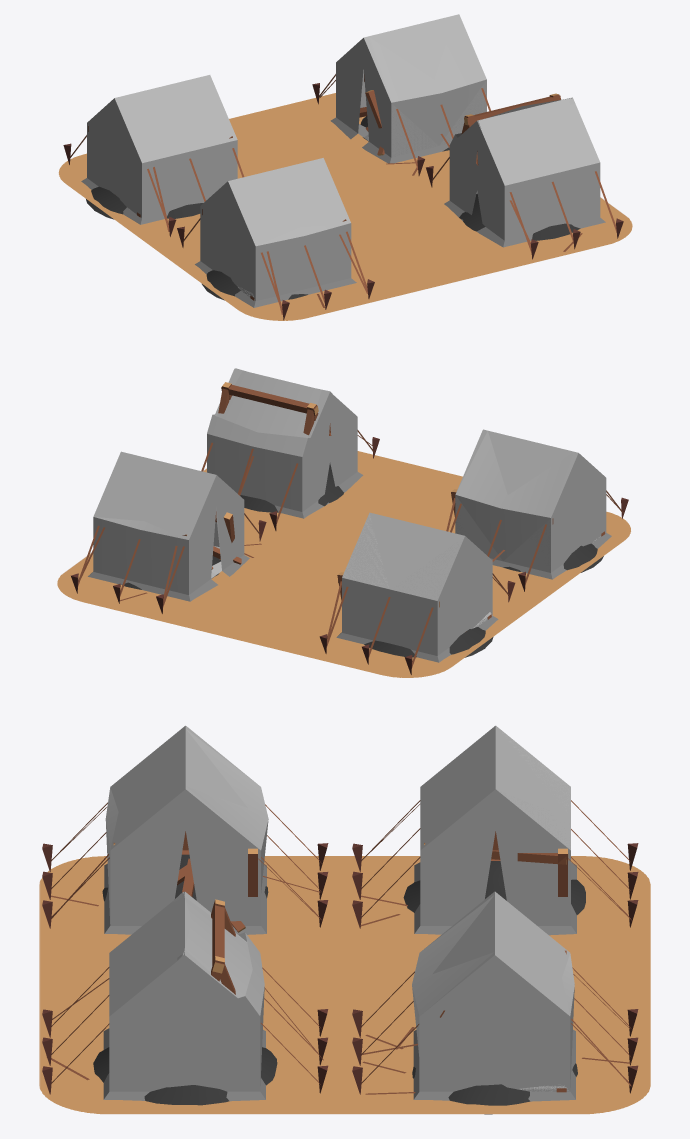
Rendered from Tents.fbx.
3 renders of one model, top to bottom at view 1: azimuth 30°, elevation 25°; view 2: azimuth 150°, elevation 25°; view 3: azimuth 270°, elevation 25°, orthographic. The views are drawn at different scales.
Parts seen in each view (by area): view 1: First_Floor, Ground, Destruction_phase_1, Destruction_phase_2; view 2: First_Floor, Ground, Destruction_phase_1, Destruction_phase_2; view 3: First_Floor, Ground, Destruction_phase_2, Destruction_phase_1.
Boxes of the visible parts, x1,y1,x2,y2 form: First_Floor: (63, 14, 623, 320); Ground: (58, 93, 632, 320); Destruction_phase_1: (142, 15, 604, 307); Destruction_phase_2: (86, 80, 580, 314); First_Floor: (71, 368, 628, 674); Ground: (57, 451, 630, 677); Destruction_phase_1: (91, 368, 573, 661); Destruction_phase_2: (81, 382, 623, 657); First_Floor: (42, 725, 638, 1101); Ground: (39, 856, 650, 1114); Destruction_phase_2: (50, 804, 631, 1114); Destruction_phase_1: (46, 727, 630, 1097).
Size of the model in its own units: 3.95 by 0.9813 by 3.95.
